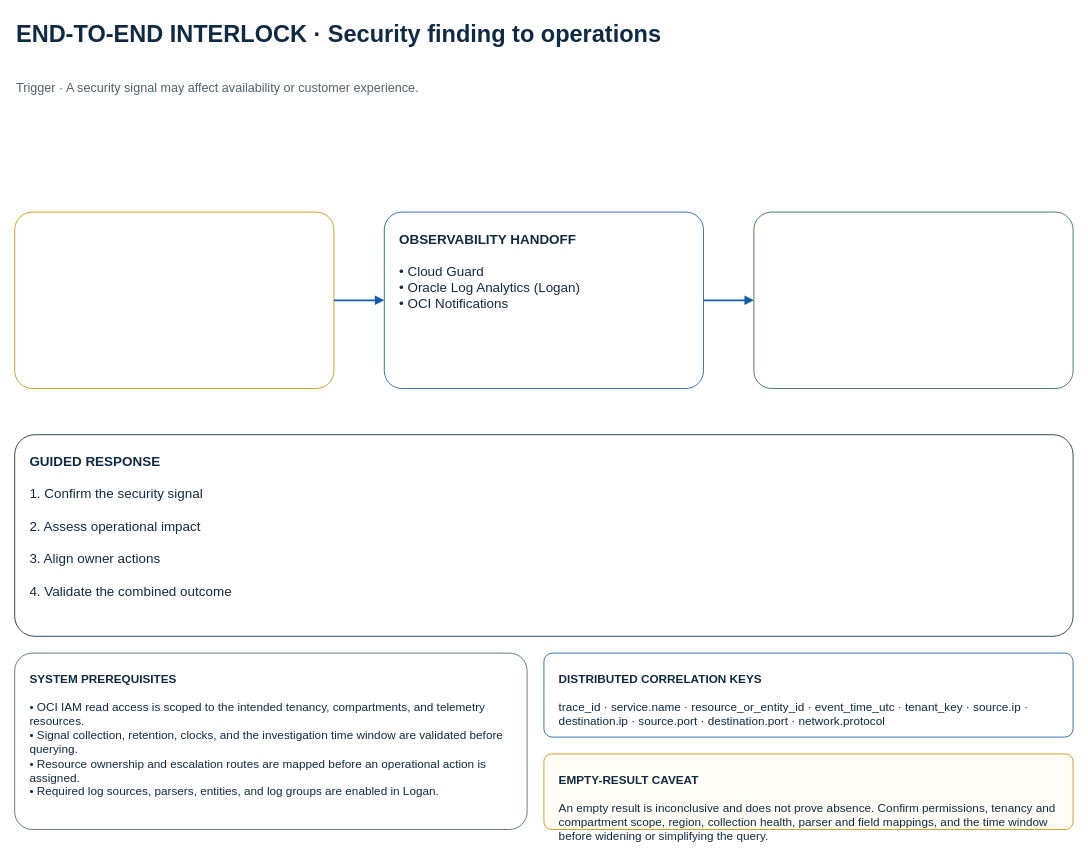
Some shapes in this 1088 by 858 pixel diagram are drawn without their labels. Each missing label, with the centre of its shape:
OPERATIONAL OUTCOME • Coordinate security and operations on one evidence trail.: [913,299]
SOURCE EVIDENCE • Security finding • Application health • Network evidence: [174,299]
